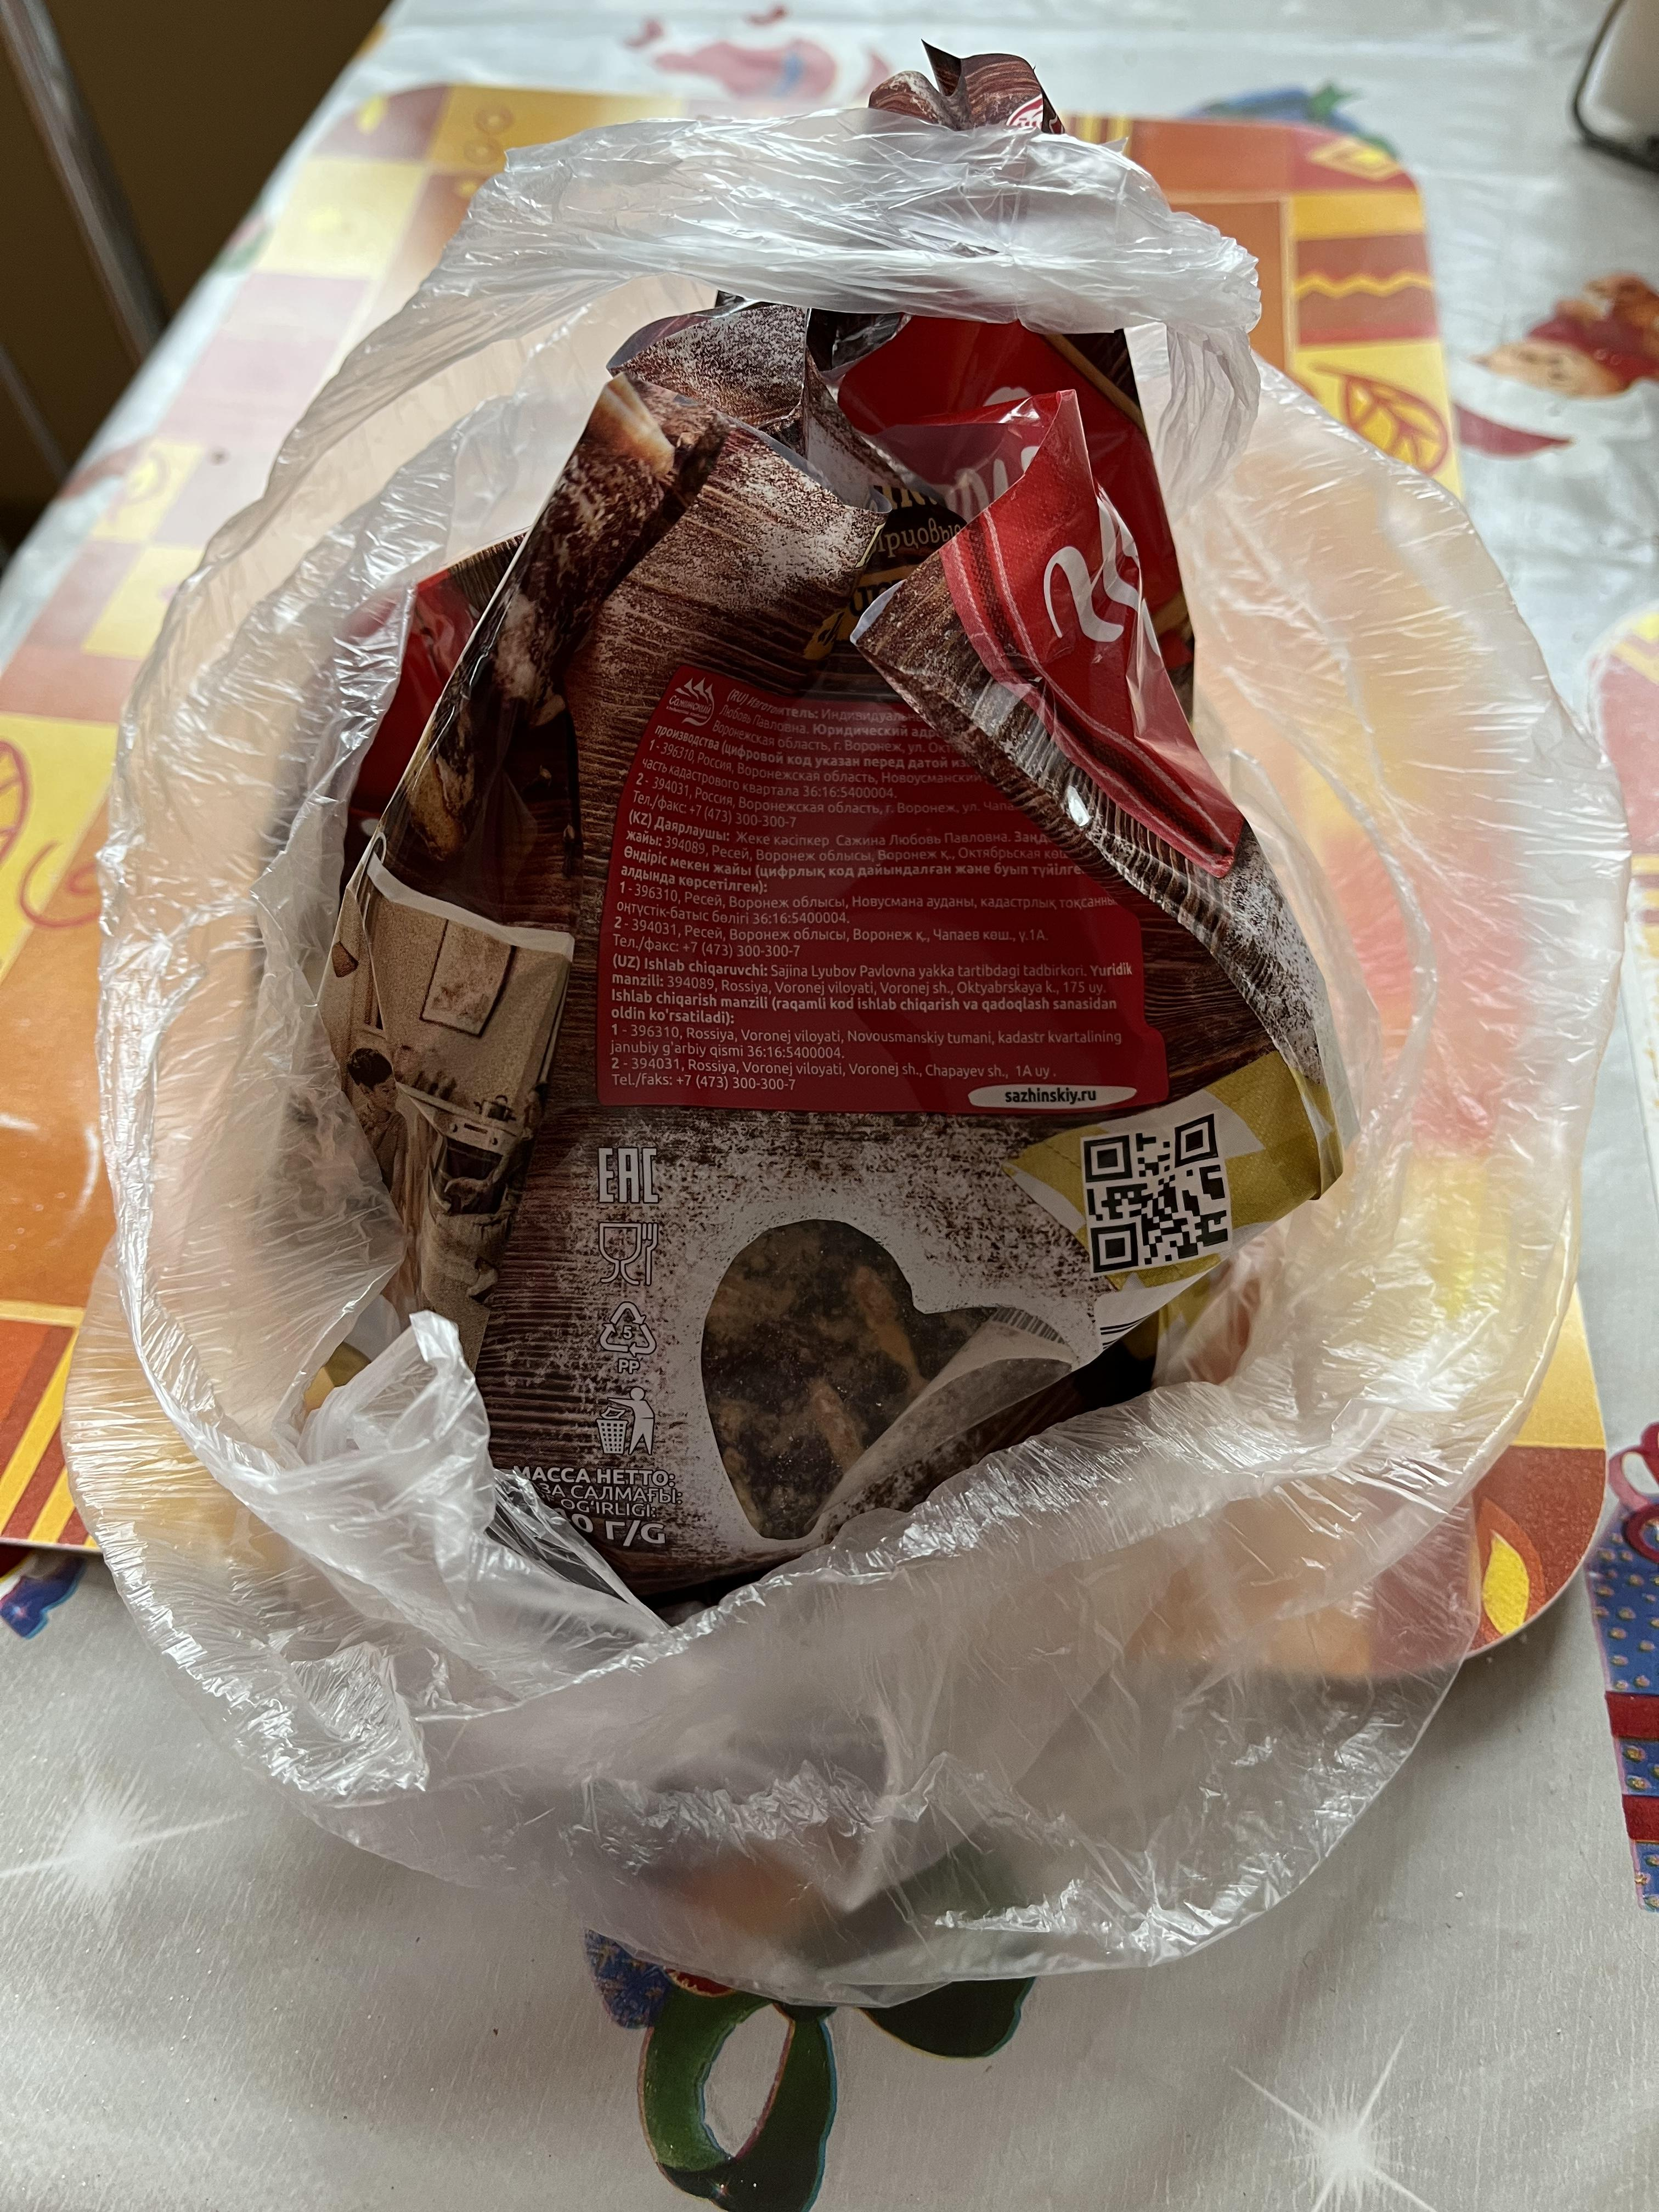qrcode: (1082, 1113, 1230, 1275)
